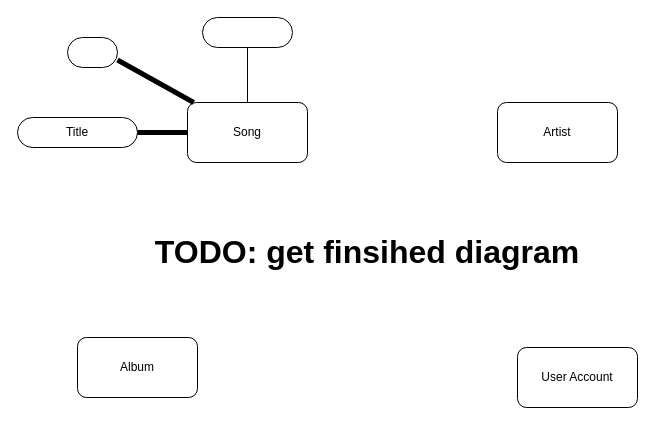
This 655x425 diagram has some shape labels left out. The shapes that lost their labels are listed below. From the top down, each one's centre as x and y in pixels, then its label:
At [92,52]: "ID".
At [247,32]: "Date Published".
